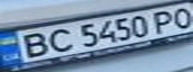0: (130, 12, 154, 38)
4: (97, 17, 118, 45)
5: (75, 20, 100, 47), (112, 16, 136, 42)
B: (12, 29, 54, 60)
C: (42, 26, 75, 54)
O: (166, 4, 193, 29)
P: (148, 8, 181, 34)
